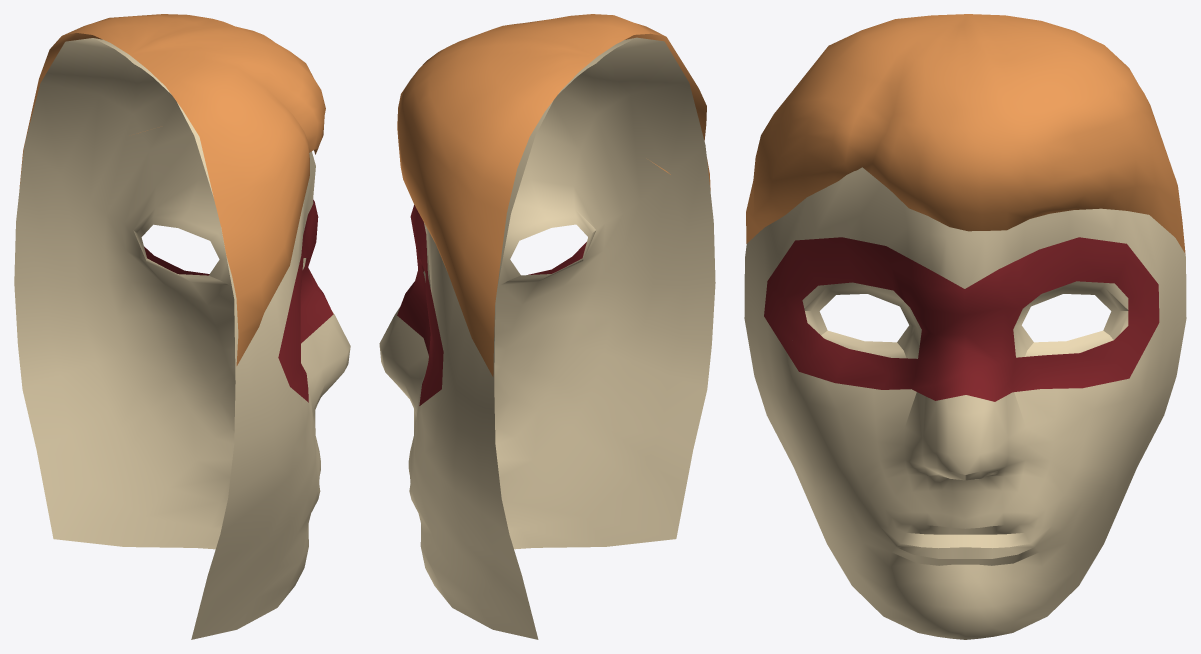
The model's file is Hero_Mask 1.fbx.
3 renders of one model, left to right at view 1: azimuth 30°, elevation 25°; view 2: azimuth 150°, elevation 25°; view 3: azimuth 270°, elevation 25°, orthographic.
Visible parts, largest first — view 1: Face.001, Hair, Mask; view 2: Face.001, Hair, Mask; view 3: Face.001, Hair, Mask.
Part boxes in pixels (x1,y1,x2,y2): Face.001: (14,38,350,639); Hair: (19,14,325,365); Mask: (144,199,333,402); Face.001: (379,37,715,639); Hair: (397,14,710,376); Mask: (397,205,586,405); Face.001: (744,167,1186,639); Hair: (746,14,1185,253); Mask: (764,237,1159,401).
Bounding box in the file's own units: 169 × 401 × 289.
